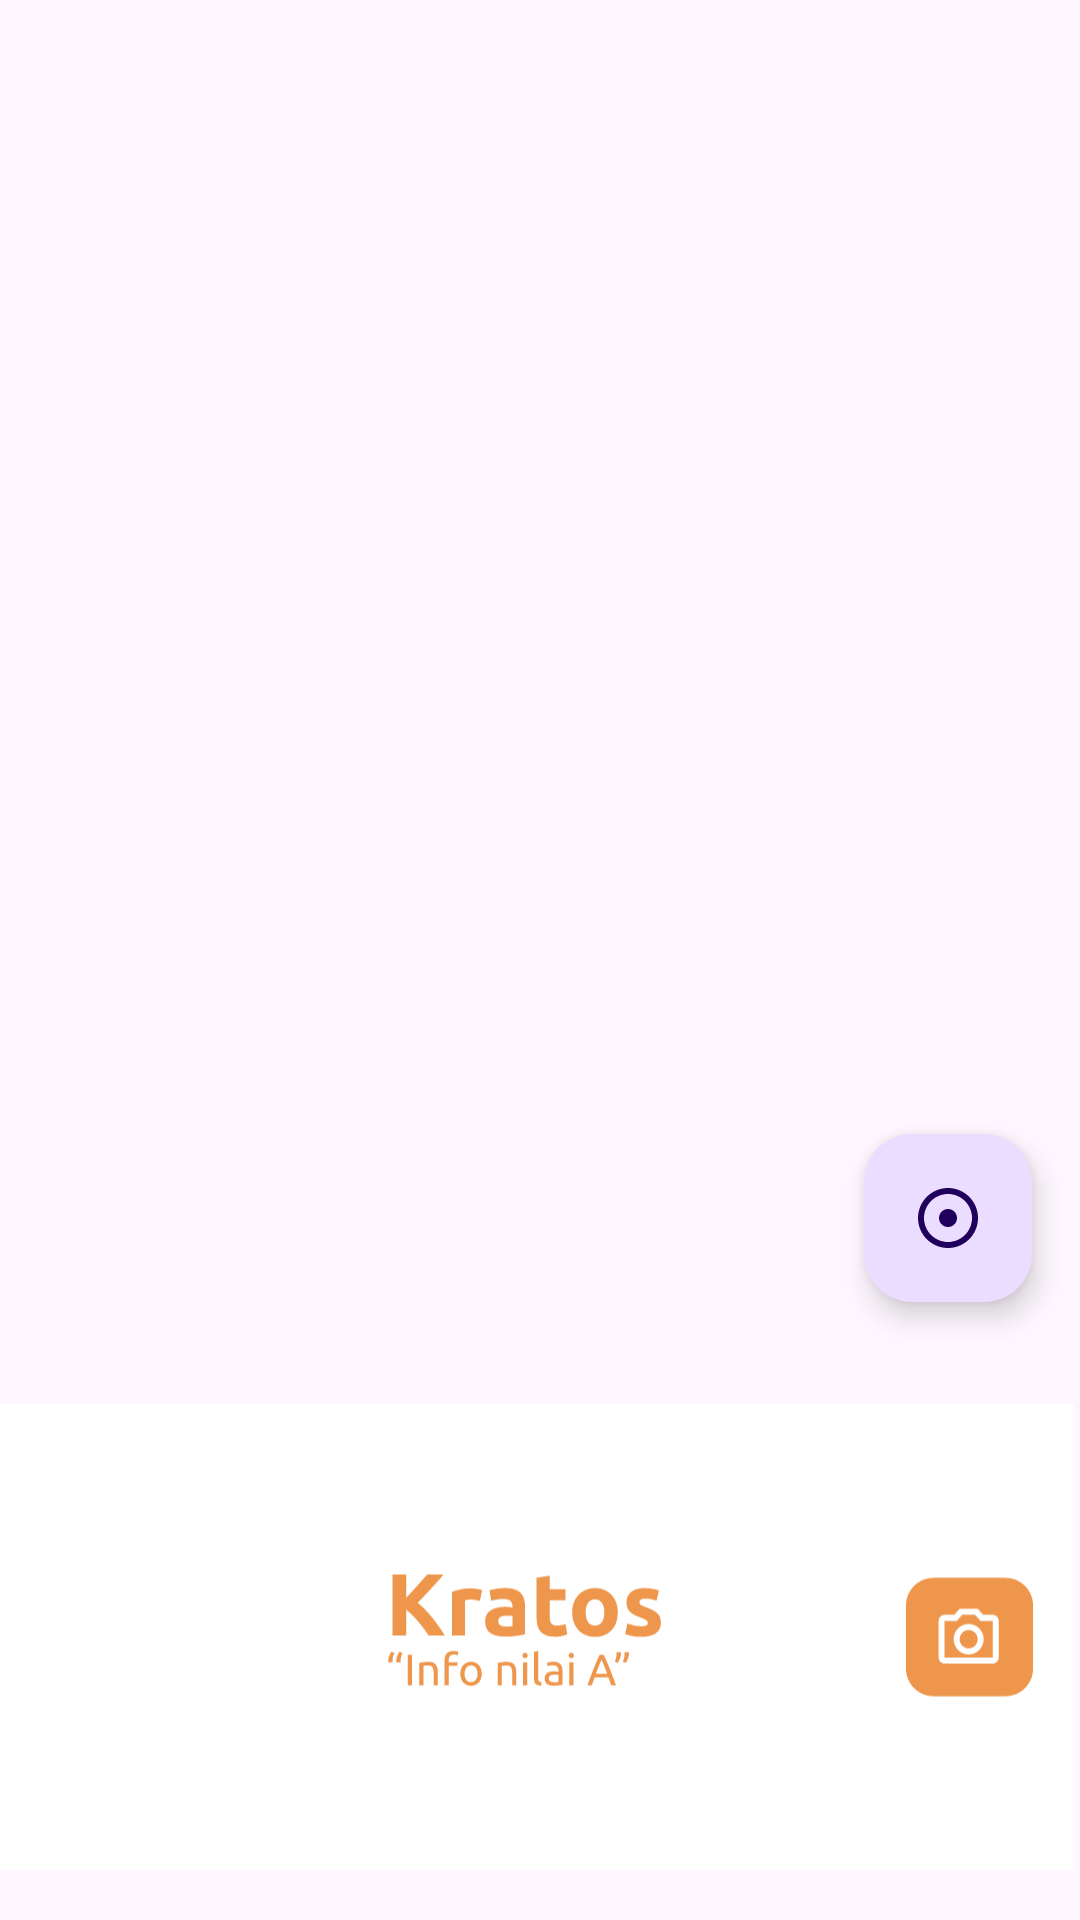

Icons on this 1080 × 1920 Android screen, each with the point to tap as point (x, y):
adjust: point (948, 1218)
